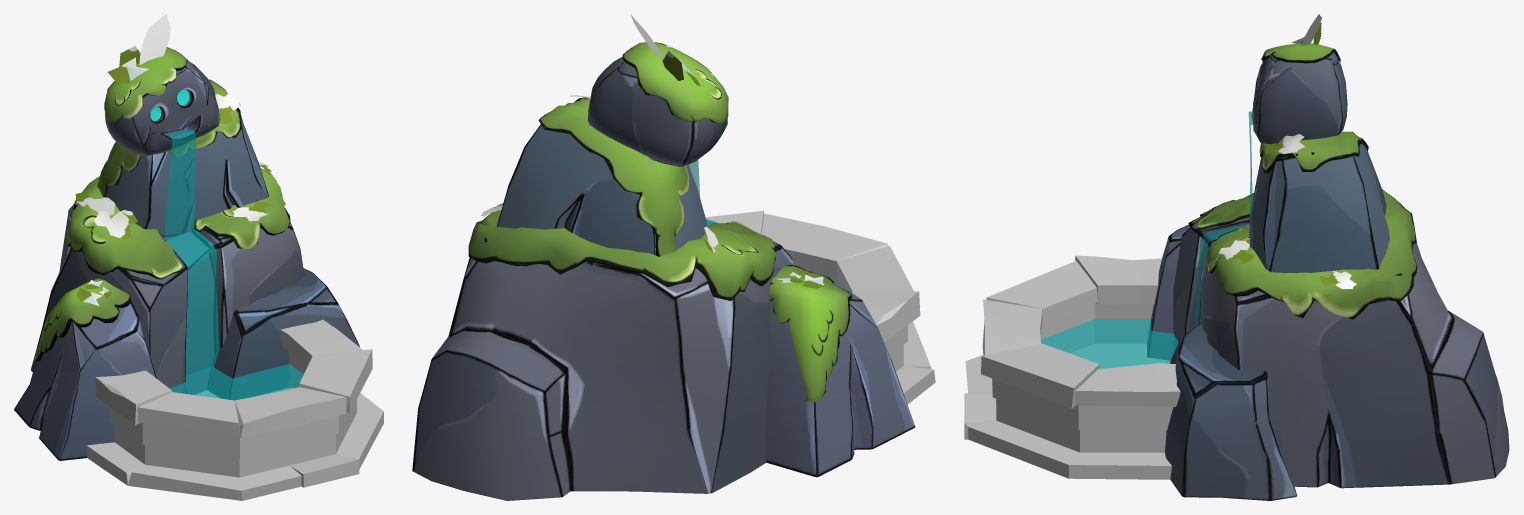
Rendered from Moonset_FBX_Fontaine2.fbx.
3 renders of one model, left to right at view 1: azimuth 30°, elevation 25°; view 2: azimuth 150°, elevation 25°; view 3: azimuth 270°, elevation 25°, orthographic. The views are drawn at different scales.
Parts seen in each view (by area): view 1: Fontaine_base_meshes, Base, water2, water1; view 2: Fontaine_base_meshes, Base; view 3: Fontaine_base_meshes, Base, water1, water2.
Boxes of the visible parts, left/top/right/bottom form: Fontaine_base_meshes: left=14, top=14, right=359, bottom=460; Base: left=86, top=319, right=383, bottom=500; water2: left=164, top=129, right=219, bottom=377; water1: left=170, top=364, right=303, bottom=400; Fontaine_base_meshes: left=412, top=14, right=915, bottom=500; Base: left=705, top=210, right=935, bottom=404; Fontaine_base_meshes: left=1147, top=14, right=1509, bottom=500; Base: left=964, top=255, right=1180, bottom=479; water1: left=1041, top=319, right=1178, bottom=368; water2: left=1194, top=111, right=1253, bottom=326.
Size of the model in its own units: 9.63 by 10.16 by 12.4.
